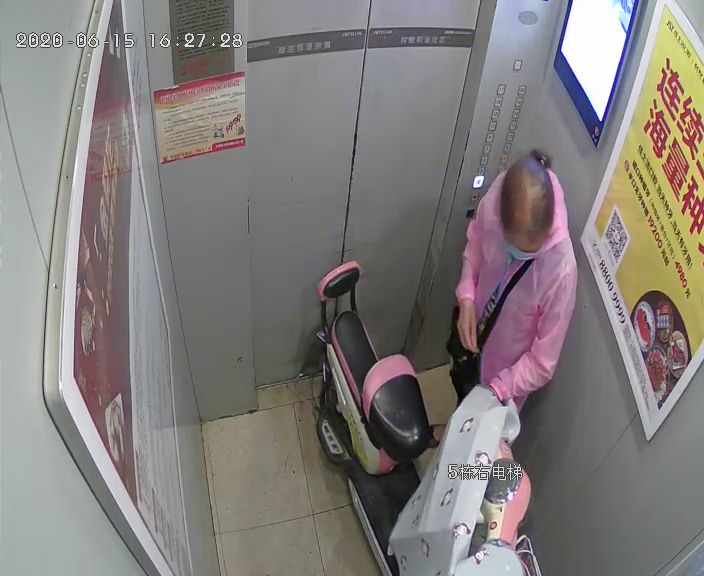Electric-bicycle: (318, 259, 537, 575)
